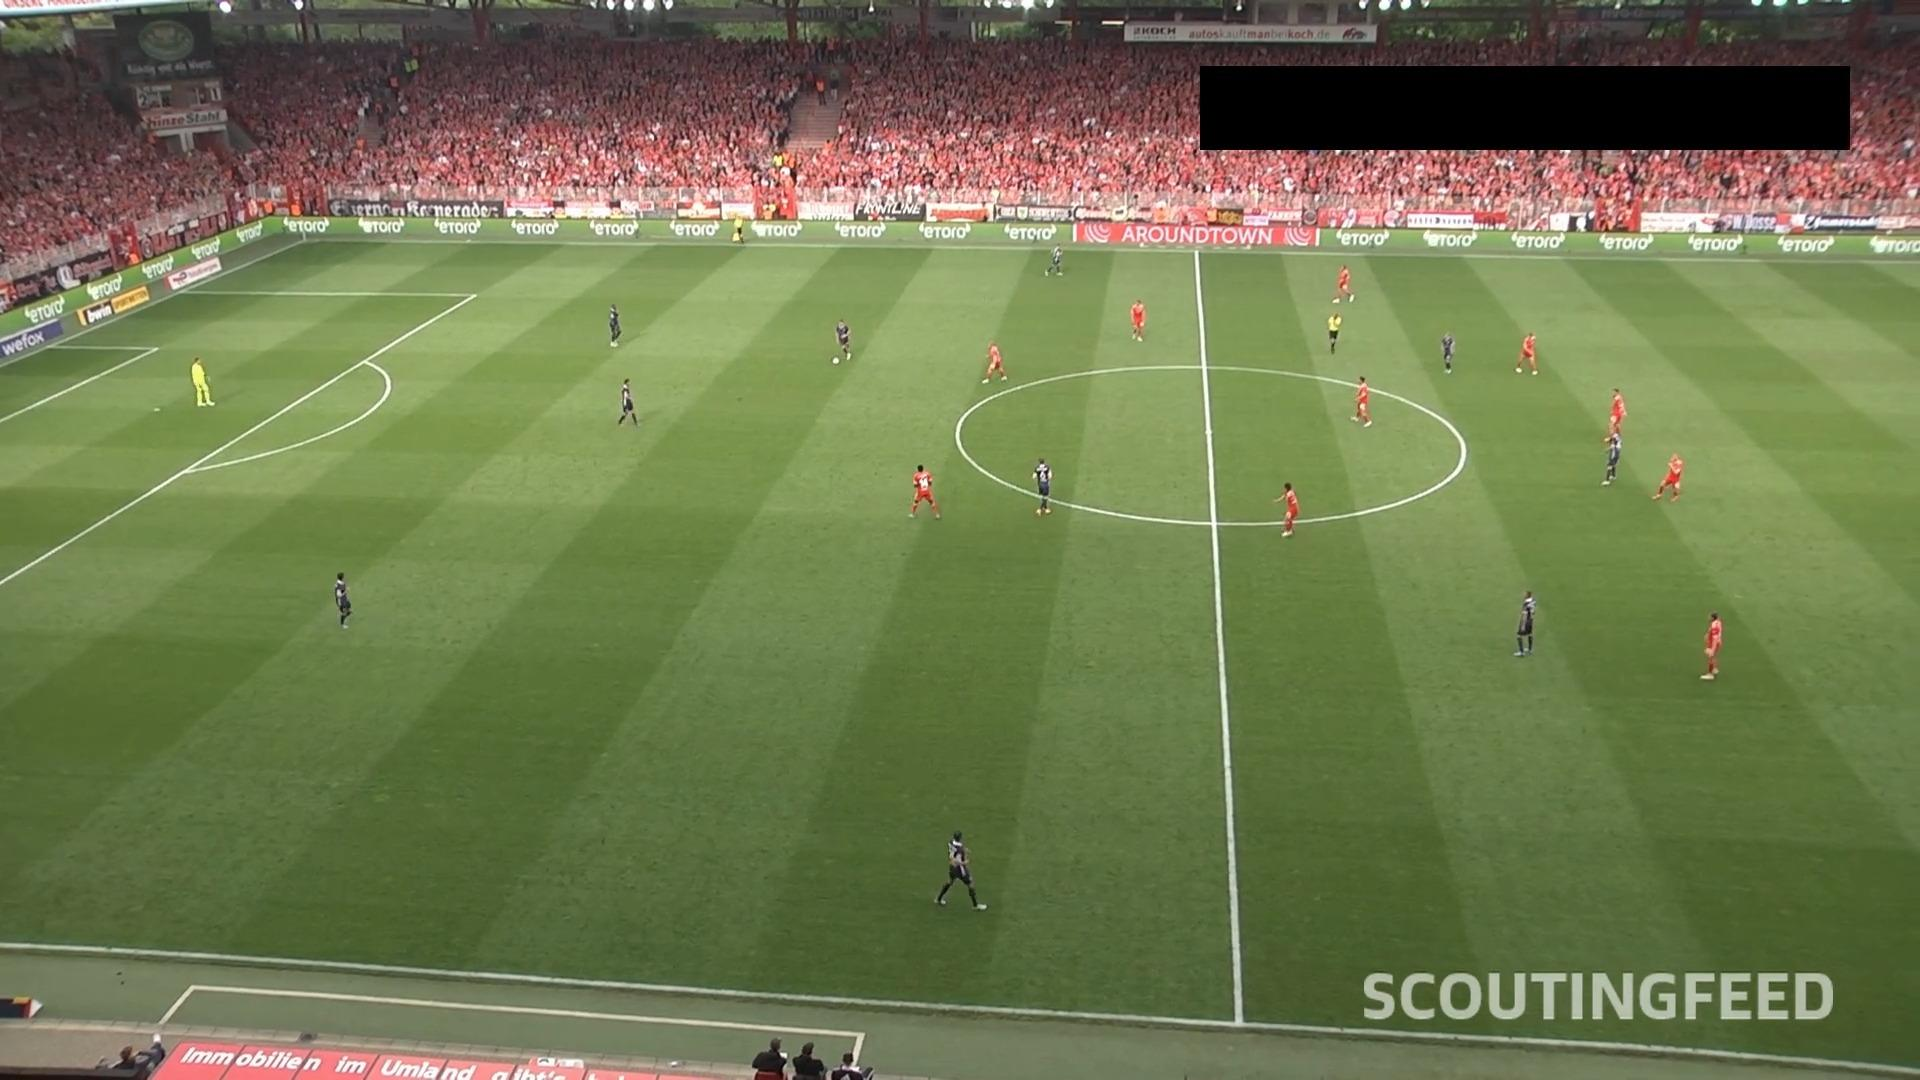ball: (831, 355, 841, 365)
